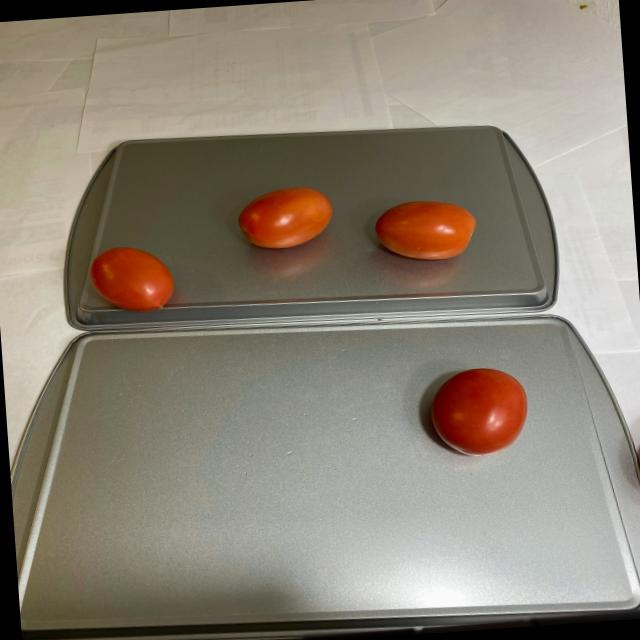tomato: (230, 174, 490, 280), (420, 361, 544, 464), (88, 245, 178, 317)
